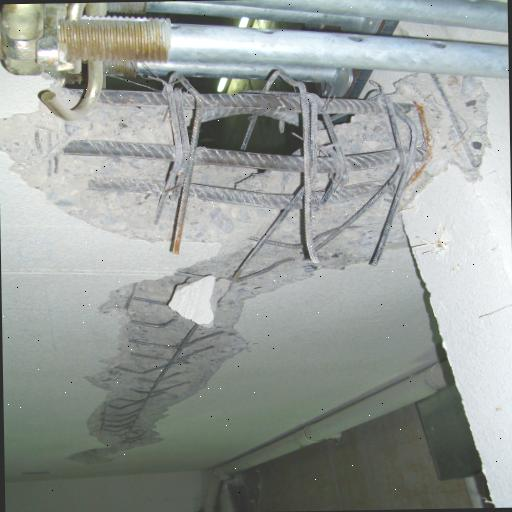spalling: (0, 75, 486, 465)
